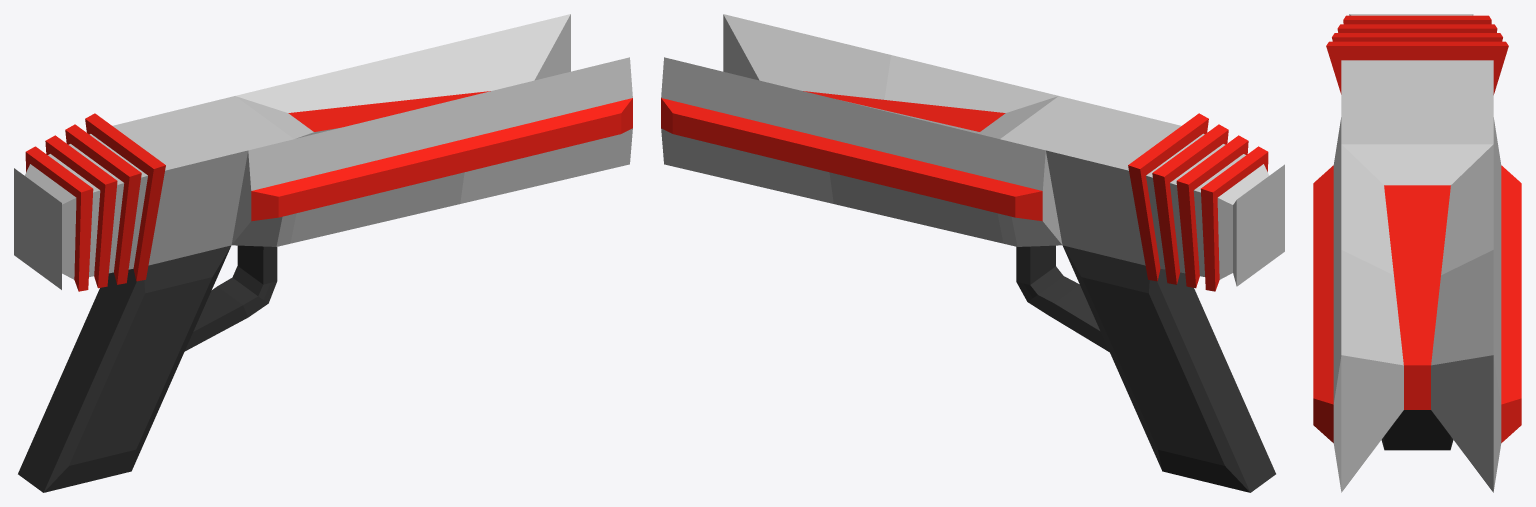
Rendered from gun3.fbx.
3 views of the same model, side by side, from view 1: azimuth 30°, elevation 25°; view 2: azimuth 150°, elevation 25°; view 3: azimuth 270°, elevation 25° (orthographic). The views are drawn at different scales.
Parts seen in each view (by area): view 1: gun3; view 2: gun3; view 3: gun3.
Part boxes in pixels (x1,y1,x2,y2): gun3: (14,14,632,492); gun3: (661,14,1284,492); gun3: (1313,14,1521,492).
Bounding box in the file's own units: 4.11 × 2.2 × 1.01.
1 material, 1 textured.
